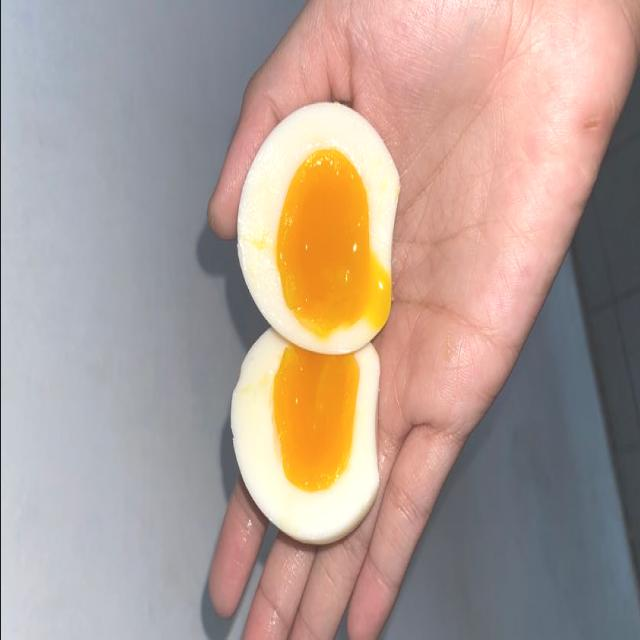telur rebus: (237, 101, 401, 361), (230, 328, 382, 548)
